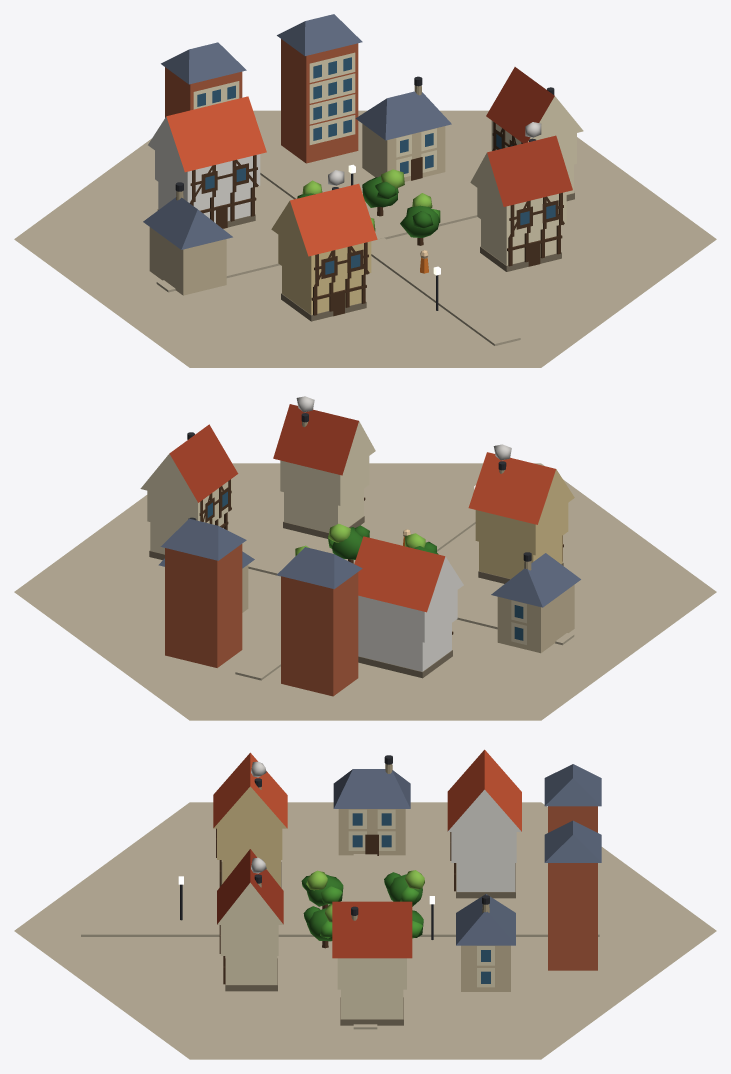
Rendered from district_neighborhood_3.fbx.
The picture shows the model from 3 angles, top to bottom: view 1: azimuth 30°, elevation 25°; view 2: azimuth 150°, elevation 25°; view 3: azimuth 270°, elevation 25°; orthographic projection.
Visible parts, largest first — view 1: district_neighborhood_3; view 2: district_neighborhood_3; view 3: district_neighborhood_3.
Part boxes in pixels (x1,y1,x2,y2): district_neighborhood_3: (14, 14, 716, 367); district_neighborhood_3: (14, 396, 716, 720); district_neighborhood_3: (14, 749, 716, 1059).
Bounding box in the file's own units: 182 × 43.4 × 210.
